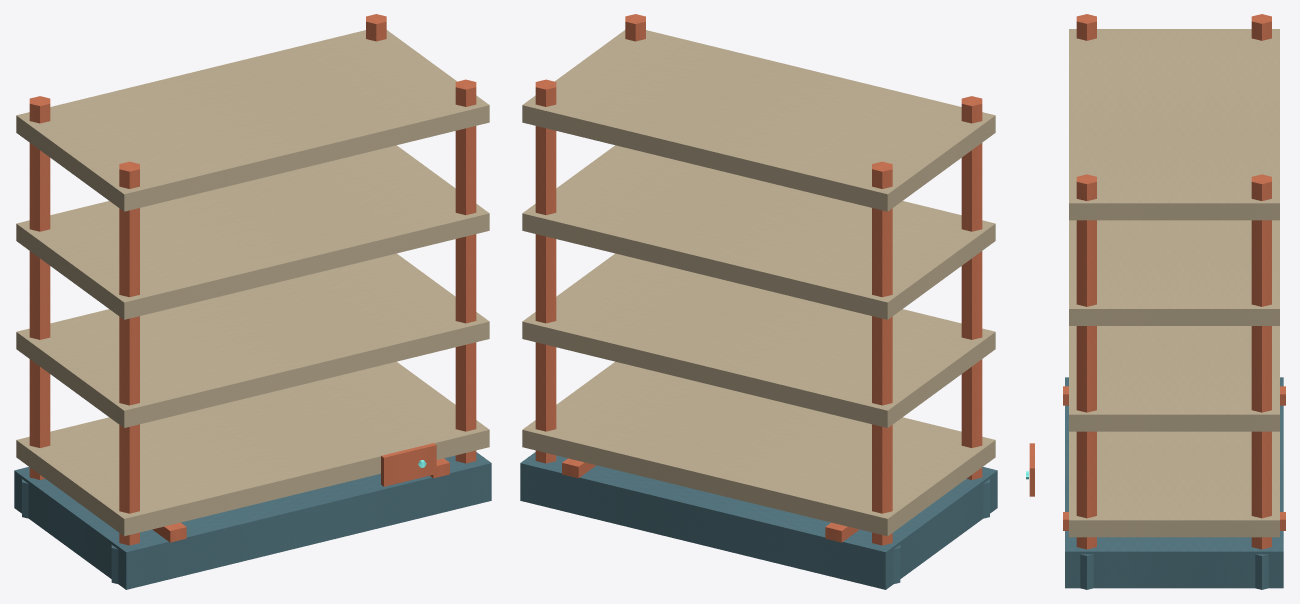
File: atlas100-s050-a06.lod1.glb
The picture shows the model from 3 angles, left to right: view 1: azimuth 30°, elevation 25°; view 2: azimuth 150°, elevation 25°; view 3: azimuth 270°, elevation 25°; orthographic projection. The views are drawn at different scales.
Parts seen in each view (by area): view 1: atlas100-s050-a06:part-014, atlas100-s050-a06:part-012, atlas100-s050-a06:part-013, atlas100-s050-a06:part-011, atlas100-s050-a06:part-000, atlas100-s050-a06:part-009, atlas100-s050-a06:part-005, atlas100-s050-a06:part-003, atlas100-s050-a06:part-015; view 2: atlas100-s050-a06:part-014, atlas100-s050-a06:part-012, atlas100-s050-a06:part-013, atlas100-s050-a06:part-011, atlas100-s050-a06:part-000, atlas100-s050-a06:part-007, atlas100-s050-a06:part-003, atlas100-s050-a06:part-005; view 3: atlas100-s050-a06:part-014, atlas100-s050-a06:part-011, atlas100-s050-a06:part-012, atlas100-s050-a06:part-013, atlas100-s050-a06:part-000, atlas100-s050-a06:part-007, atlas100-s050-a06:part-009, atlas100-s050-a06:part-003, atlas100-s050-a06:part-005, atlas100-s050-a06:part-008, atlas100-s050-a06:part-010.
Boxes of the visible parts, bbox=[...] form: atlas100-s050-a06:part-014: bbox=[16, 30, 489, 211]; atlas100-s050-a06:part-012: bbox=[16, 253, 489, 427]; atlas100-s050-a06:part-013: bbox=[16, 145, 489, 319]; atlas100-s050-a06:part-011: bbox=[16, 361, 489, 536]; atlas100-s050-a06:part-000: bbox=[14, 452, 491, 589]; atlas100-s050-a06:part-009: bbox=[455, 79, 476, 463]; atlas100-s050-a06:part-005: bbox=[119, 161, 139, 545]; atlas100-s050-a06:part-003: bbox=[29, 96, 50, 479]; atlas100-s050-a06:part-015: bbox=[381, 443, 436, 486]; atlas100-s050-a06:part-014: bbox=[522, 30, 995, 211]; atlas100-s050-a06:part-012: bbox=[522, 253, 995, 427]; atlas100-s050-a06:part-013: bbox=[522, 145, 995, 319]; atlas100-s050-a06:part-011: bbox=[522, 361, 995, 536]; atlas100-s050-a06:part-000: bbox=[520, 452, 997, 589]; atlas100-s050-a06:part-007: bbox=[535, 79, 556, 463]; atlas100-s050-a06:part-003: bbox=[872, 161, 892, 545]; atlas100-s050-a06:part-005: bbox=[961, 96, 982, 479]; atlas100-s050-a06:part-014: bbox=[1069, 29, 1279, 220]; atlas100-s050-a06:part-011: bbox=[1069, 431, 1279, 537]; atlas100-s050-a06:part-012: bbox=[1069, 326, 1279, 431]; atlas100-s050-a06:part-013: bbox=[1069, 220, 1279, 325]; atlas100-s050-a06:part-000: bbox=[1065, 377, 1283, 588]; atlas100-s050-a06:part-007: bbox=[1251, 174, 1271, 549]; atlas100-s050-a06:part-009: bbox=[1076, 174, 1096, 549]; atlas100-s050-a06:part-003: bbox=[1251, 14, 1271, 40]; atlas100-s050-a06:part-005: bbox=[1076, 14, 1096, 40]; atlas100-s050-a06:part-008: bbox=[1255, 554, 1268, 589]; atlas100-s050-a06:part-010: bbox=[1080, 554, 1093, 589].
Bounding box in the file's own units: 2.69 × 2.84 × 1.66.
Materials: 4 (4 with a texture image).
